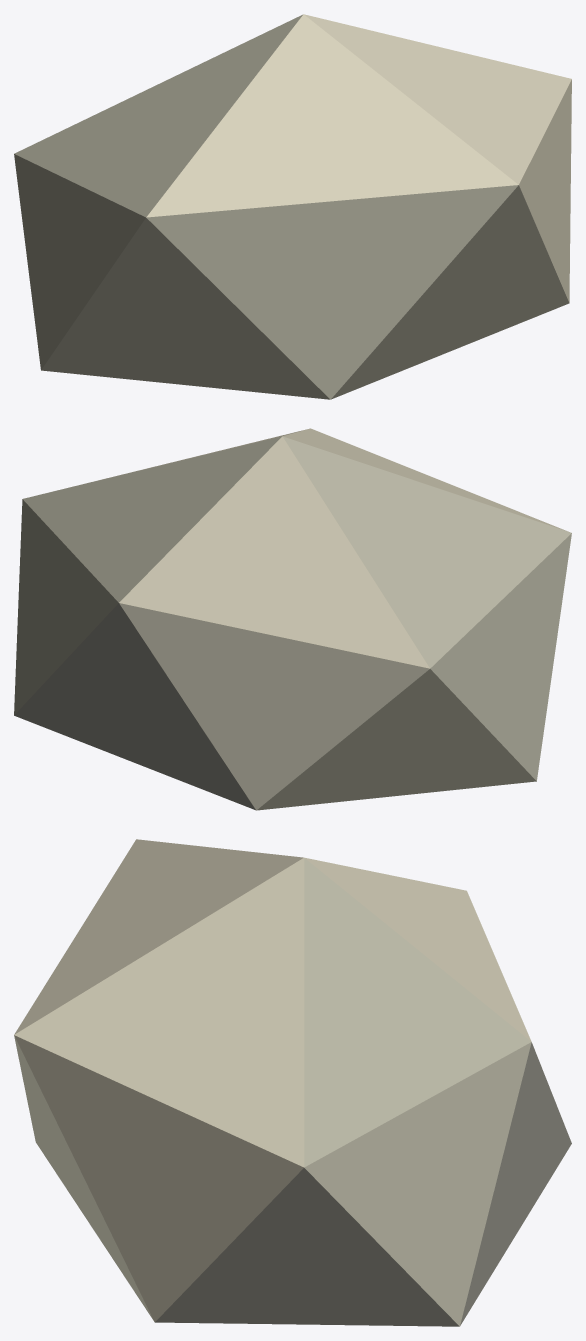
The model's file is Rock_B.fbx.
The picture shows the model from 3 angles, top to bottom: view 1: azimuth 30°, elevation 25°; view 2: azimuth 150°, elevation 25°; view 3: azimuth 270°, elevation 25°; orthographic projection. The views are drawn at different scales.
Parts seen in each view (by area): view 1: Rock_B; view 2: Rock_B; view 3: Rock_B.
Boxes of the visible parts, x1,y1,x2,y2 form: Rock_B: (14,14,571,399); Rock_B: (14,428,571,810); Rock_B: (14,839,571,1326).
Bounding box in the file's own units: 205 × 141 × 157.
